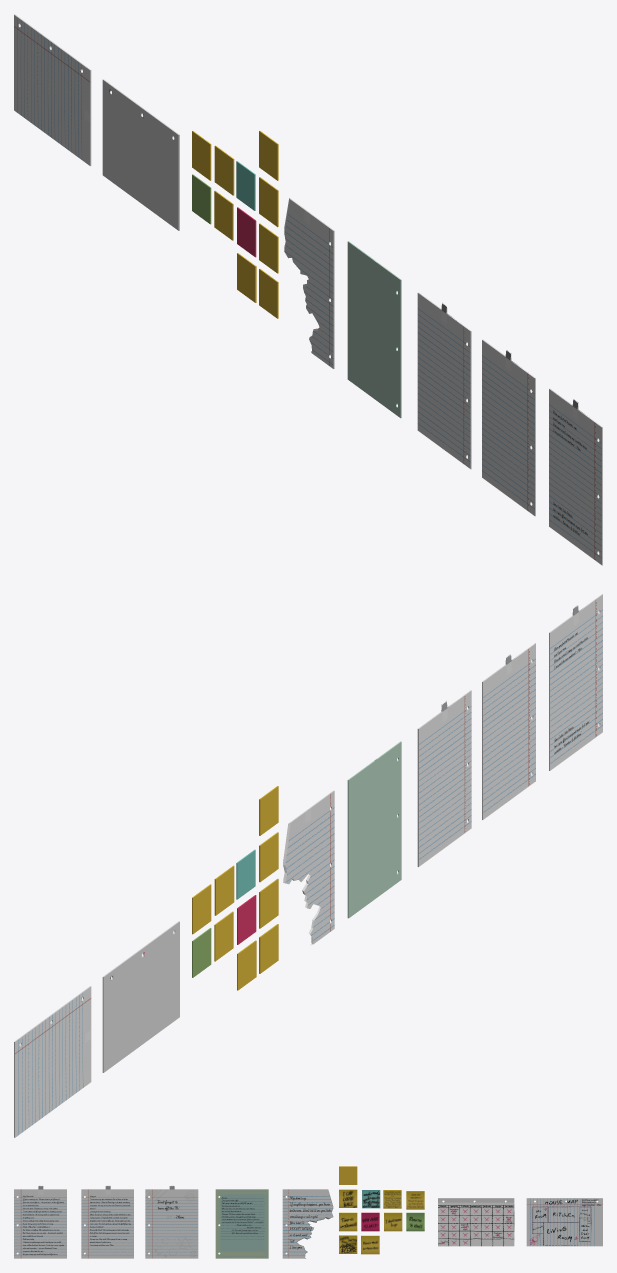
File: Notes.fbx
3 renders of one model, top to bottom at view 1: azimuth 30°, elevation 25°; view 2: azimuth 150°, elevation 25°; view 3: azimuth 270°, elevation 25°, orthographic. The views are drawn at different scales.
Visible parts, largest first — view 1: MomNote.009, MomNote.013, MomNote.002, MomNote.008, MomNote.001, MomNote.003, MomNote.014, MomNote.010, MomNote.004, MomStickyNote.003, MomStickyNote.007, MomStickyNote (+6 smaller); view 2: MomNote.009, MomNote.013, MomNote.002, MomNote.008, MomNote.003, MomNote.001, MomNote.014, MomNote.010, MomStickyNote.001, MomStickyNote.004, MomStickyNote.006, MomStickyNote.007 (+6 smaller); view 3: MomNote.009, MomNote.013, MomNote.008, MomNote.002, MomNote.001, MomNote.003, MomNote.014, MomStickyNote.005, MomStickyNote.006, MomStickyNote.008, MomStickyNote.003, MomStickyNote.007 (+6 smaller).
Boxes of the visible parts, x1,y1,x2,y2 form: MomNote.009: (417, 292, 471, 469); MomNote.013: (347, 241, 401, 418); MomNote.002: (14, 14, 91, 165); MomNote.008: (102, 79, 179, 230); MomNote.001: (549, 388, 602, 565); MomNote.003: (482, 339, 535, 516); MomNote.014: (284, 198, 334, 368); MomNote.010: (214, 145, 234, 195); MomNote.004: (192, 131, 211, 180); MomStickyNote.003: (259, 223, 278, 273); MomStickyNote.007: (214, 190, 233, 240); MomStickyNote: (259, 131, 278, 180); MomNote.009: (417, 690, 471, 866); MomNote.013: (347, 741, 401, 918); MomNote.002: (14, 986, 91, 1137); MomNote.008: (102, 921, 179, 1072); MomNote.003: (482, 643, 535, 819); MomNote.001: (549, 594, 602, 770); MomNote.014: (283, 790, 334, 945); MomNote.010: (214, 865, 234, 915); MomStickyNote.001: (259, 832, 278, 882); MomStickyNote.004: (236, 849, 255, 899); MomStickyNote.006: (237, 940, 256, 990); MomStickyNote.007: (214, 911, 233, 961); MomNote.009: (145, 1186, 198, 1258); MomNote.013: (215, 1189, 268, 1258); MomNote.008: (438, 1198, 514, 1246); MomNote.002: (526, 1198, 602, 1246); MomNote.001: (14, 1186, 66, 1258); MomNote.003: (81, 1186, 133, 1258); MomNote.014: (282, 1189, 333, 1258); MomStickyNote.005: (361, 1212, 379, 1231); MomStickyNote.006: (361, 1235, 379, 1254); MomStickyNote.008: (406, 1212, 424, 1231); MomStickyNote.003: (339, 1212, 357, 1231); MomStickyNote.007: (384, 1212, 402, 1231).
Size of the model in its own units: 1.54 by 252 by 1464.
29 materials, 21 textured.
